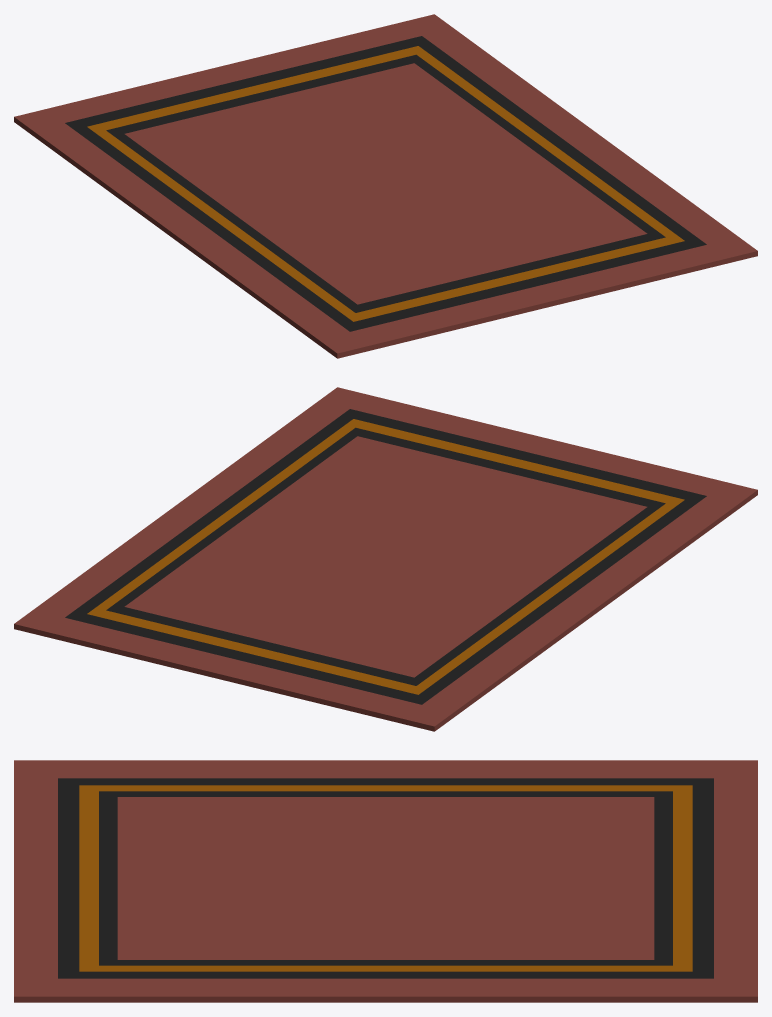
File: koberec_1 1.fbx
3 renders of one model, top to bottom at view 1: azimuth 30°, elevation 25°; view 2: azimuth 150°, elevation 25°; view 3: azimuth 270°, elevation 25°, orthographic. The views are drawn at different scales.
Visible parts, largest first — view 1: koberec.001; view 2: koberec.001; view 3: koberec.001.
Boxes of the visible parts, box(x1,y1,x2,y2) form: koberec.001: box(14, 14, 757, 358); koberec.001: box(14, 387, 757, 731); koberec.001: box(14, 760, 757, 1002).
Size of the model in its own units: 685 by 8.09 by 912.
